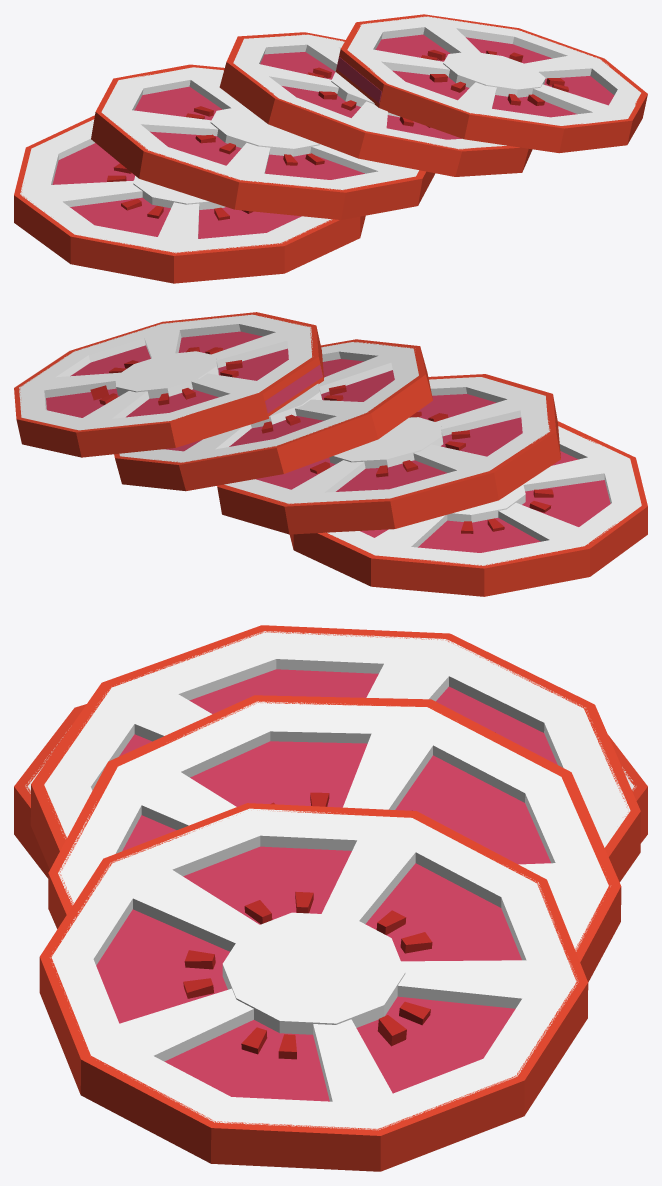
The model's file is Tomato_Cutted.fbx.
3 renders of one model, top to bottom at view 1: azimuth 30°, elevation 25°; view 2: azimuth 150°, elevation 25°; view 3: azimuth 270°, elevation 25°, orthographic. The views are drawn at different scales.
Visible parts, largest first — view 1: 큐브.076; view 2: 큐브.076; view 3: 큐브.076.
Boxes of the visible parts, <box> form: 큐브.076: <box>14,14,647,283</box>; 큐브.076: <box>14,312,647,596</box>; 큐브.076: <box>14,625,647,1171</box>.
Bounding box in the file's own units: 1091 × 600 × 201.
